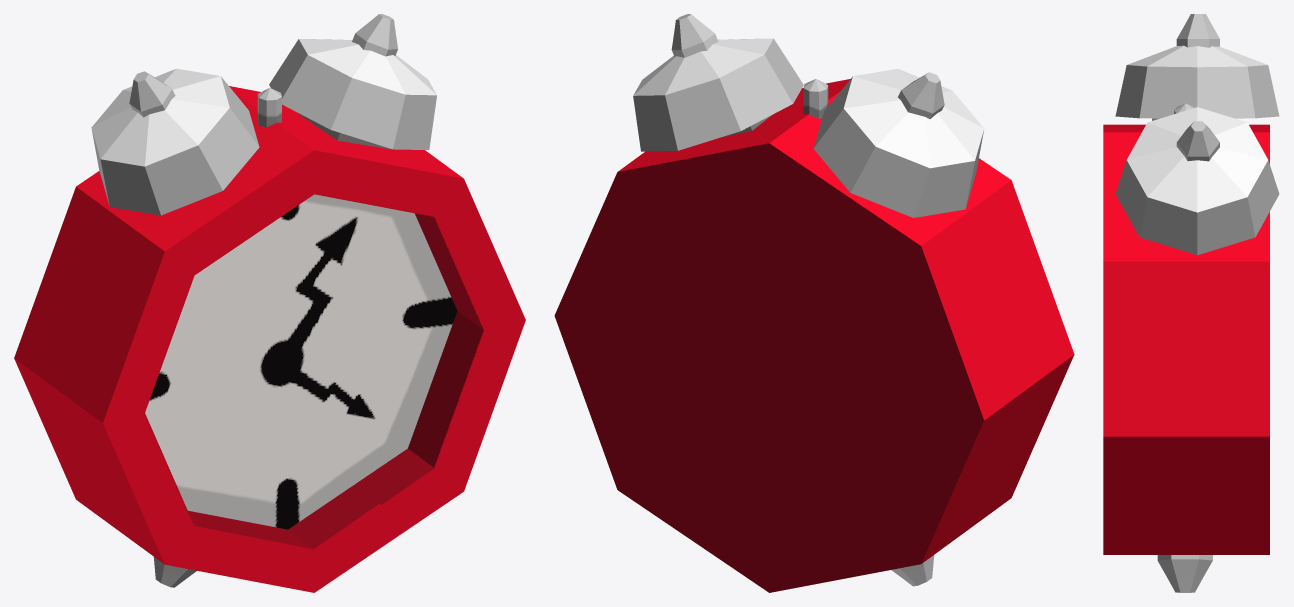
File: reloj.glb
3 renders of one model, left to right at view 1: azimuth 30°, elevation 25°; view 2: azimuth 150°, elevation 25°; view 3: azimuth 270°, elevation 25°, orthographic. The views are drawn at different scales.
Visible parts, largest first — view 1: Reloj; view 2: Reloj; view 3: Reloj.
Boxes of the visible parts, <box> form: Reloj: <box>14,14,525,592</box>; Reloj: <box>554,14,1074,592</box>; Reloj: <box>1103,14,1279,592</box>.
Size of the model in its own units: 26.26 by 30.38 by 10.09.
1 material, 1 textured.
